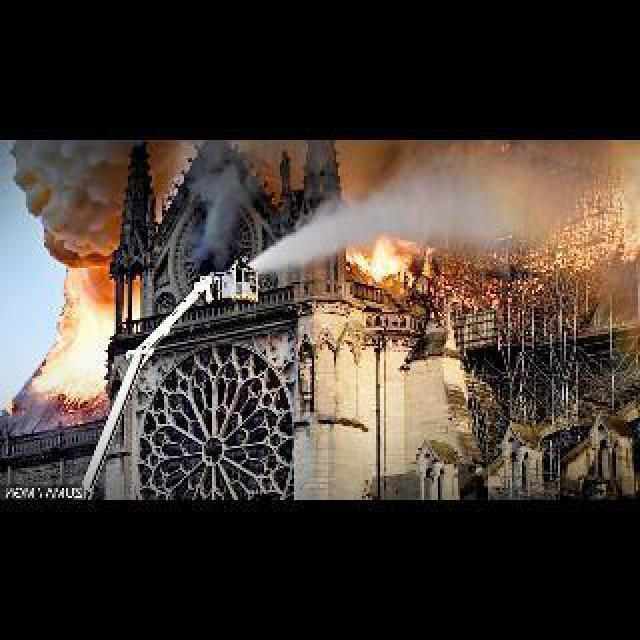Fire: (332, 170, 552, 312), (28, 216, 144, 404)
